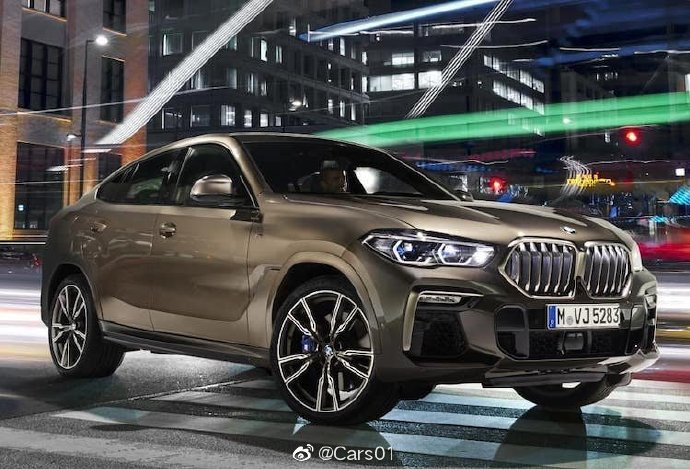other: (43, 130, 661, 427)
